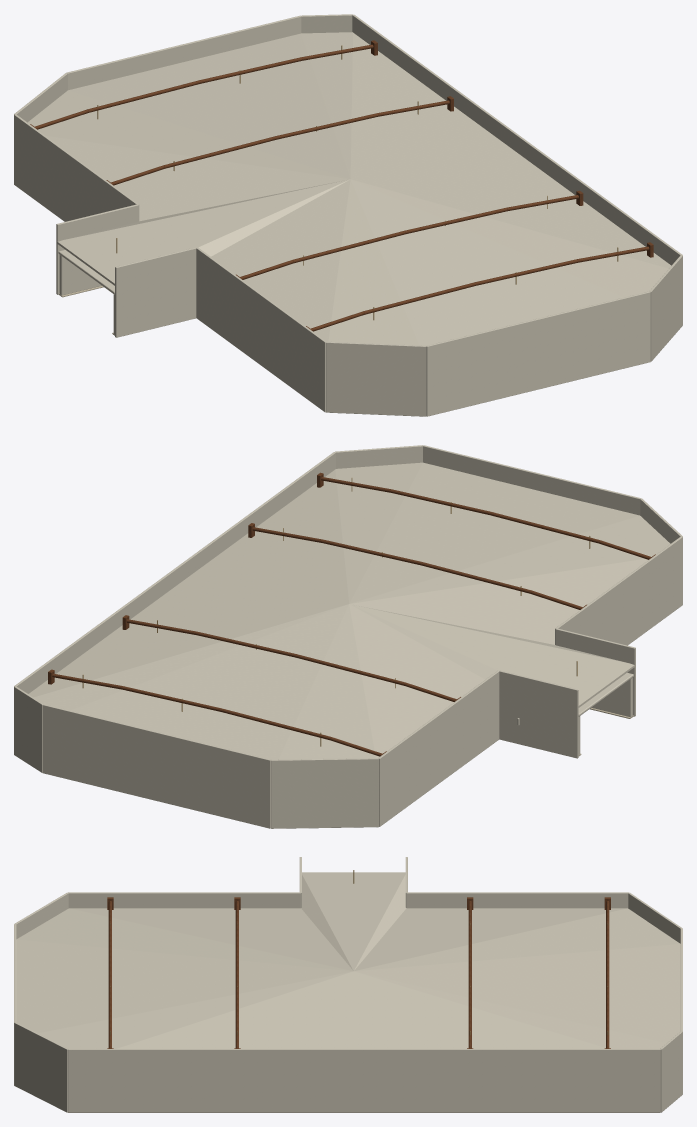
File: SOL_D09_directory_10_source001.glb
3 renders of one model, top to bottom at view 1: azimuth 30°, elevation 25°; view 2: azimuth 150°, elevation 25°; view 3: azimuth 270°, elevation 25°, orthographic. The views are drawn at different scales.
Parts seen in each view (by area): view 1: Folded_roof_5, Folded_roof_7, Folded_roof_3, Perimeter_7, Folded_roof_9, Folded_roof_1, Perimeter_9, Folded_roof_2, Folded_roof_11, Perimeter_8, Folded_roof_8, Folded_roof_6 (+11 smaller); view 2: Folded_roof_5, Folded_roof_3, Folded_roof_7, Perimeter_3, Folded_roof_9, Folded_roof_1, Perimeter_1, Perimeter_2, Folded_roof_11, Folded_roof_2, Folded_roof_8, Perimeter_9 (+11 smaller); view 3: Perimeter_5, Folded_roof_5, Folded_roof_3, Folded_roof_7, Folded_roof_9, Folded_roof_1, Folded_roof_2, Folded_roof_8, Folded_roof_11, Folded_roof_6, Perimeter_9, Perimeter_1 (+7 smaller).
Boxes of the visible parts, <box> form: Folded_roof_5: <box>350,33,671,268</box>; Folded_roof_7: <box>351,179,623,345</box>; Folded_roof_3: <box>68,33,350,178</box>; Perimeter_7: <box>426,291,650,416</box>; Folded_roof_9: <box>211,179,350,341</box>; Folded_roof_1: <box>46,136,349,221</box>; Perimeter_9: <box>196,247,326,412</box>; Folded_roof_2: <box>28,90,348,178</box>; Folded_roof_11: <box>57,179,349,285</box>; Perimeter_8: <box>326,341,426,416</box>; Folded_roof_8: <box>328,180,418,345</box>; Folded_roof_6: <box>352,179,668,297</box>; Folded_roof_5: <box>28,470,349,697</box>; Folded_roof_3: <box>71,604,348,759</box>; Folded_roof_7: <box>349,462,639,603</box>; Perimeter_3: <box>42,704,270,828</box>; Folded_roof_9: <box>350,559,647,644</box>; Folded_roof_1: <box>349,604,484,757</box>; Perimeter_1: <box>378,670,499,826</box>; Perimeter_2: <box>271,758,378,828</box>; Folded_roof_11: <box>350,604,635,707</box>; Folded_roof_2: <box>279,604,375,759</box>; Folded_roof_8: <box>351,515,670,603</box>; Perimeter_9: <box>555,536,682,645</box>; Perimeter_5: <box>68,1049,660,1112</box>; Folded_roof_5: <box>116,971,605,1048</box>; Folded_roof_3: <box>355,944,680,1042</box>; Folded_roof_7: <box>16,939,352,1033</box>; Folded_roof_9: <box>70,908,353,971</box>; Folded_roof_1: <box>354,908,626,970</box>; Folded_roof_2: <box>354,908,680,971</box>; Folded_roof_8: <box>16,908,352,971</box>; Folded_roof_11: <box>302,872,405,970</box>; Folded_roof_6: <box>38,971,352,1048</box>; Perimeter_9: <box>68,892,300,908</box>; Perimeter_1: <box>406,892,628,908</box>.
Size of the model in its own units: 43.11 by 6.8 by 63.22.
12 materials, 12 textured.
